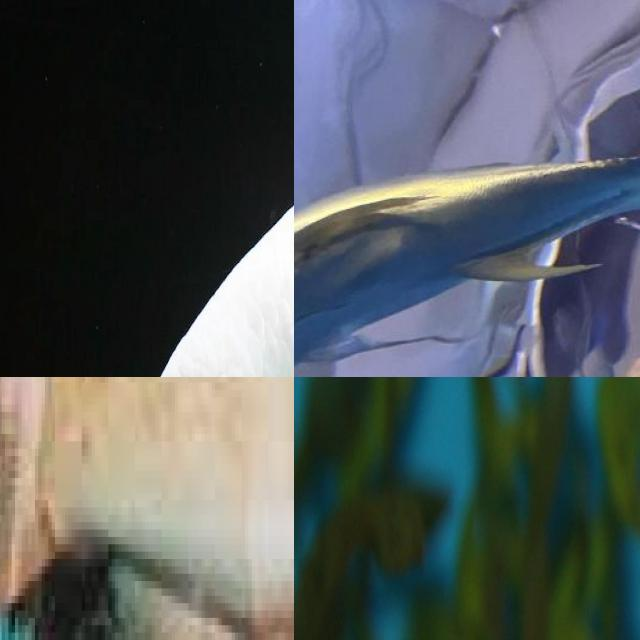fish: (0, 0, 294, 377), (294, 107, 640, 377), (0, 377, 294, 640)
